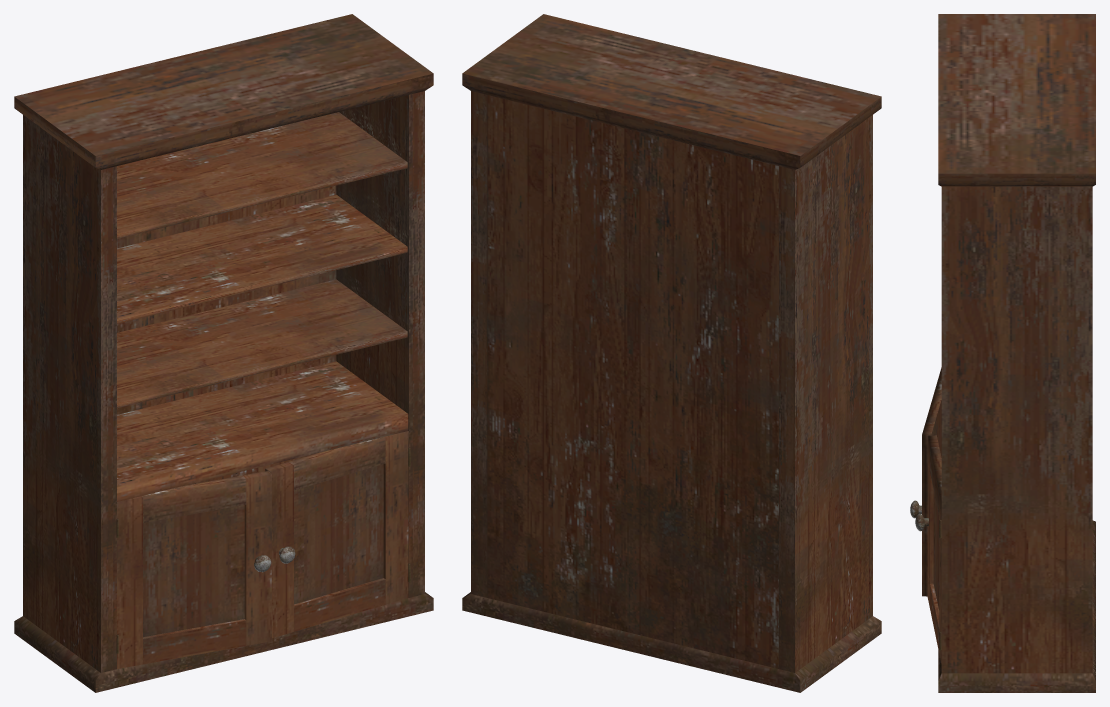
The model's file is 099_SlideShelf.fbx.
3 views of the same model, side by side, from view 1: azimuth 30°, elevation 25°; view 2: azimuth 150°, elevation 25°; view 3: azimuth 270°, elevation 25° (orthographic). The views are drawn at different scales.
Parts seen in each view (by area): view 1: LOD_1_Group_0_Sub_1__sm30_099_SlideShelf01A_C_Mat; view 2: LOD_1_Group_0_Sub_1__sm30_099_SlideShelf01A_C_Mat; view 3: LOD_1_Group_0_Sub_1__sm30_099_SlideShelf01A_C_Mat, LOD_1_Group_1_Sub_1__sm30_099_SlideShelf01A_C_Mat.
Boxes of the visible parts, <box> form: LOD_1_Group_0_Sub_1__sm30_099_SlideShelf01A_C_Mat: <box>14,14,433,692</box>; LOD_1_Group_0_Sub_1__sm30_099_SlideShelf01A_C_Mat: <box>462,14,881,692</box>; LOD_1_Group_0_Sub_1__sm30_099_SlideShelf01A_C_Mat: <box>922,14,1095,692</box>; LOD_1_Group_1_Sub_1__sm30_099_SlideShelf01A_C_Mat: <box>910,500,928,531</box>.
Bounding box in the file's own units: 1.25 × 1.9 × 0.6156.
